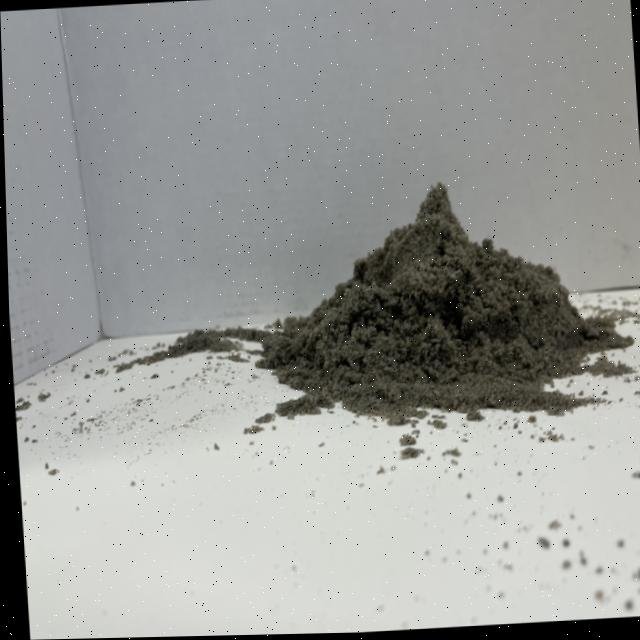sand: (255, 148, 633, 446)
